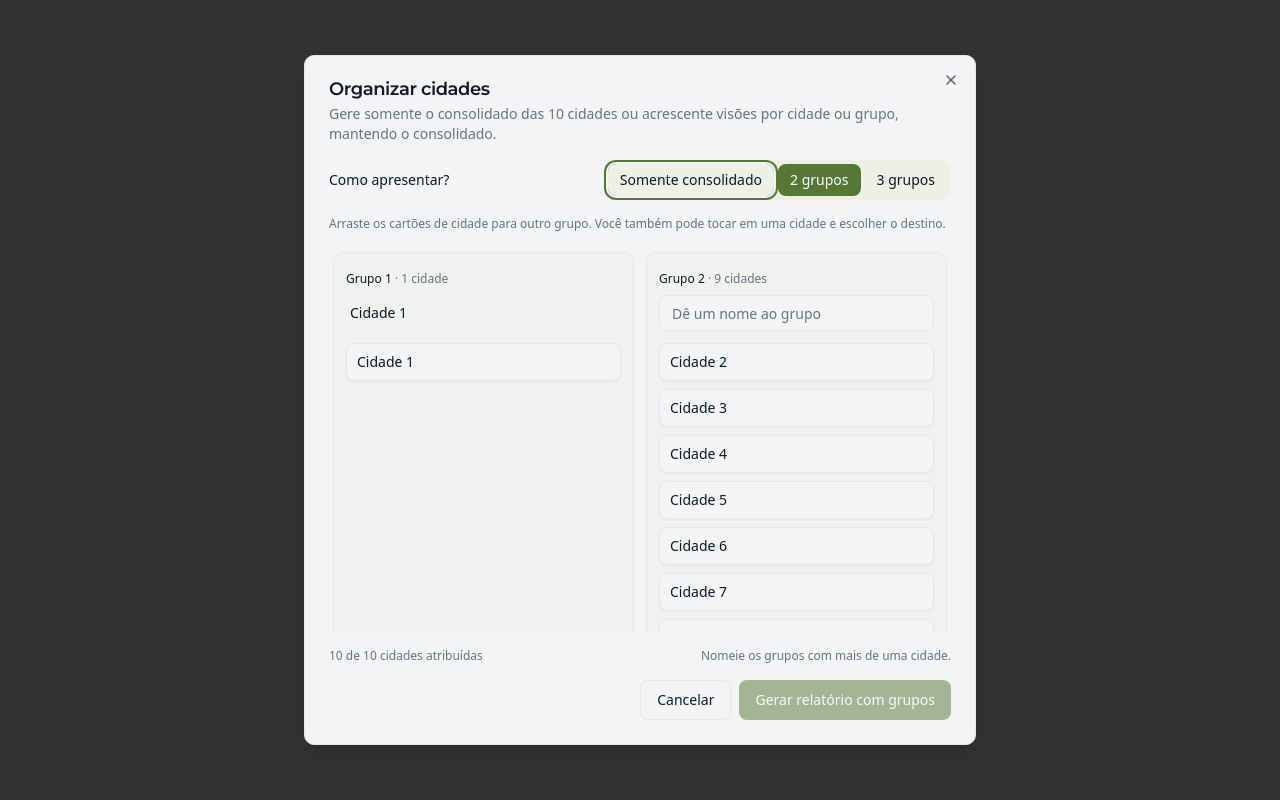
it: grupos no relatório único › permite somente consolidado com 10 cidades, sem exigir nomes ou partições
The width and height of the screenshot is (1280, 800).
Later steps or results of the test are not shown.
Click the button "Somente consolidado".
click(691, 180)  # box [608, 164, 774, 196]
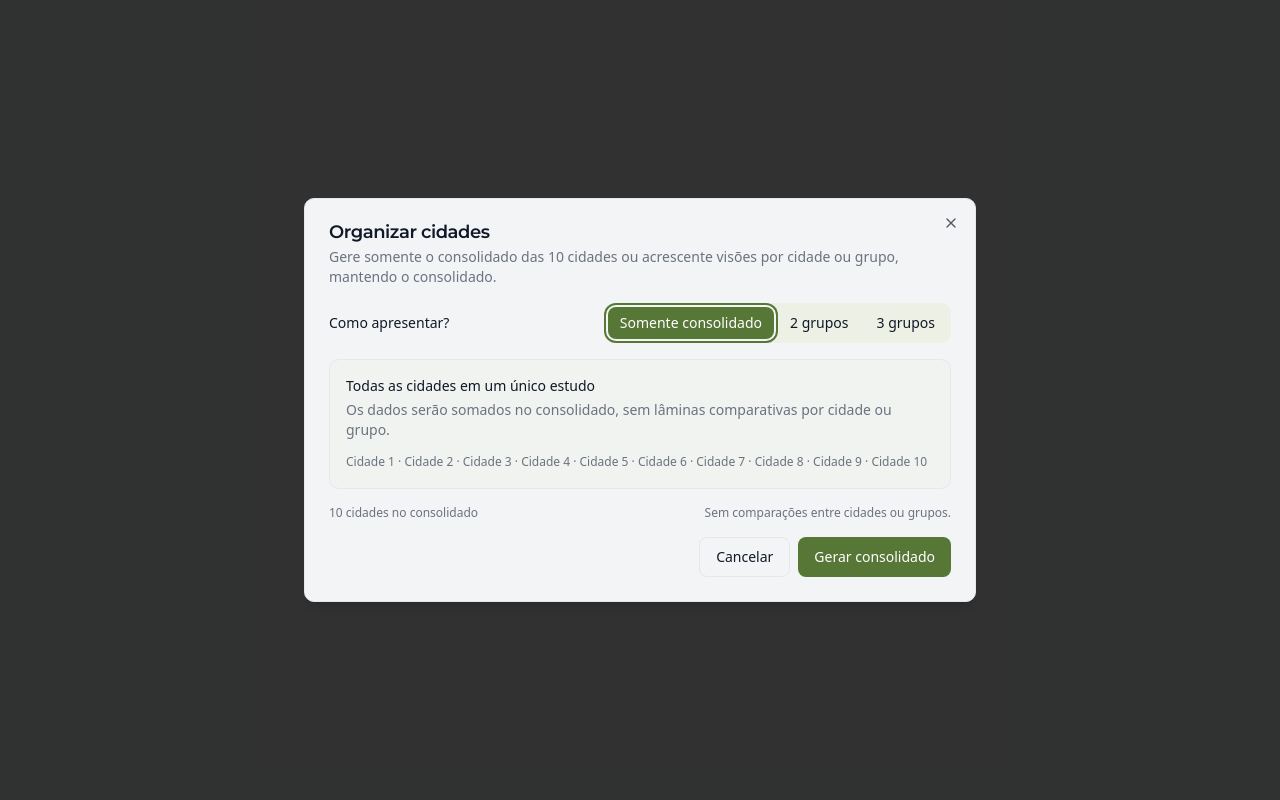
Now the label "Grupo 1" is gone
